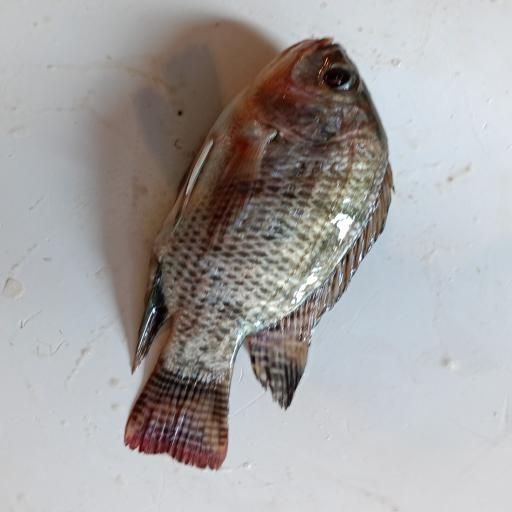Tilapia: (124, 37, 395, 471)
